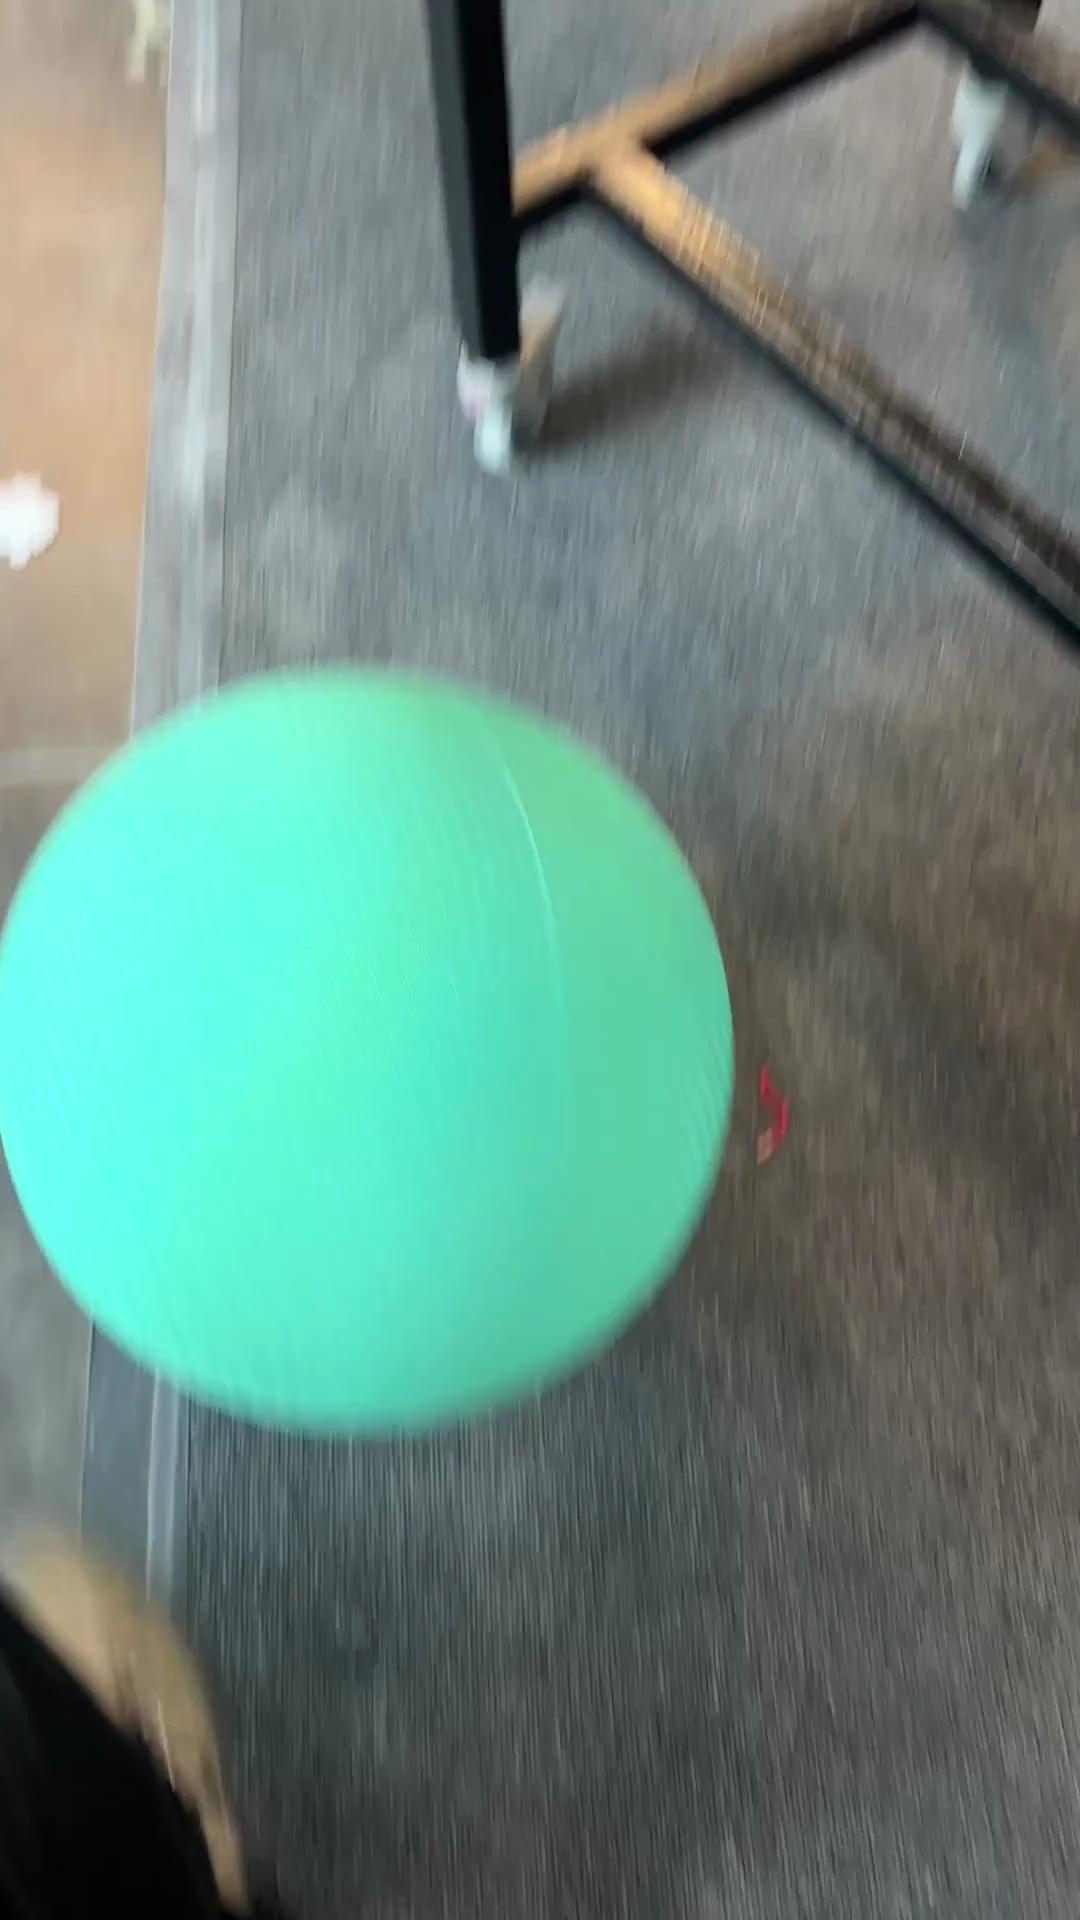ALGAE: (1, 659, 738, 1443)
